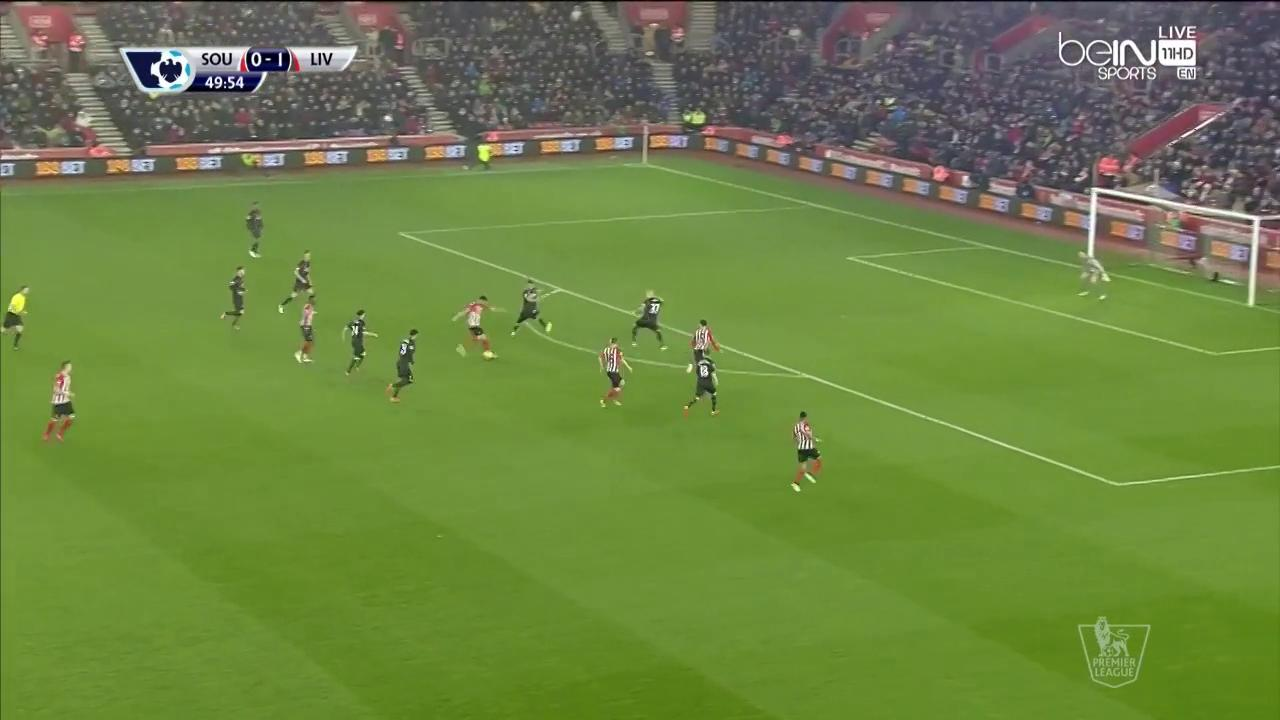football: (483, 350, 496, 362)
